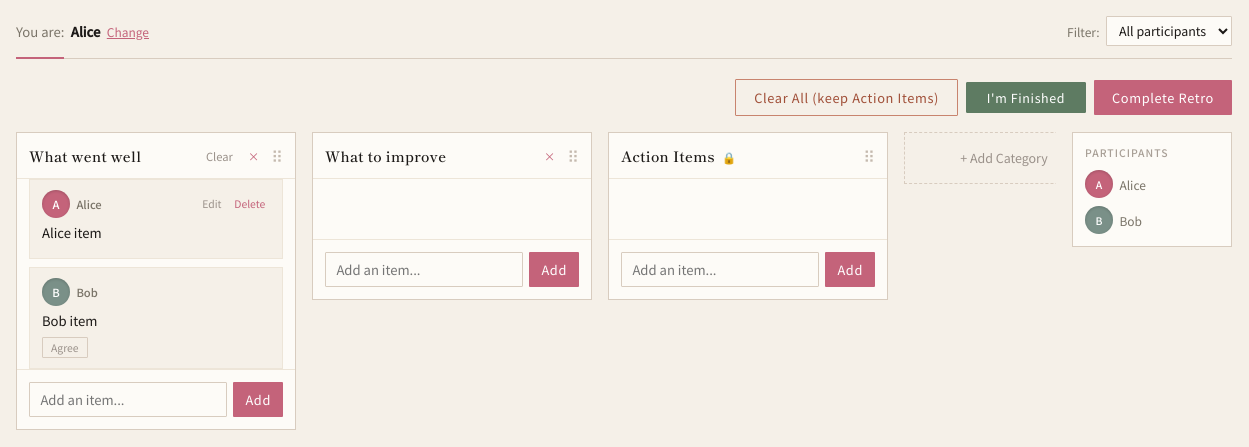
RetroBoard — participant filter › restores all items when "All participants" is selected
Select "Bob" in the dropdown labelled "Filter:": coordinates (1169, 31) [1106,16,1232,46]
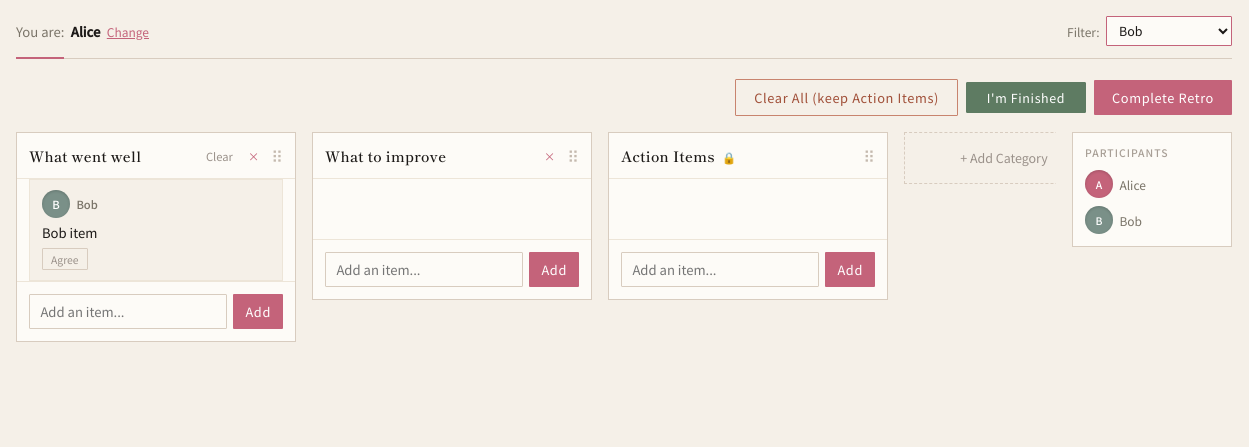
Select "All participants" in the dropdown labelled "Filter:": coordinates (1169, 31) [1106,16,1232,46]
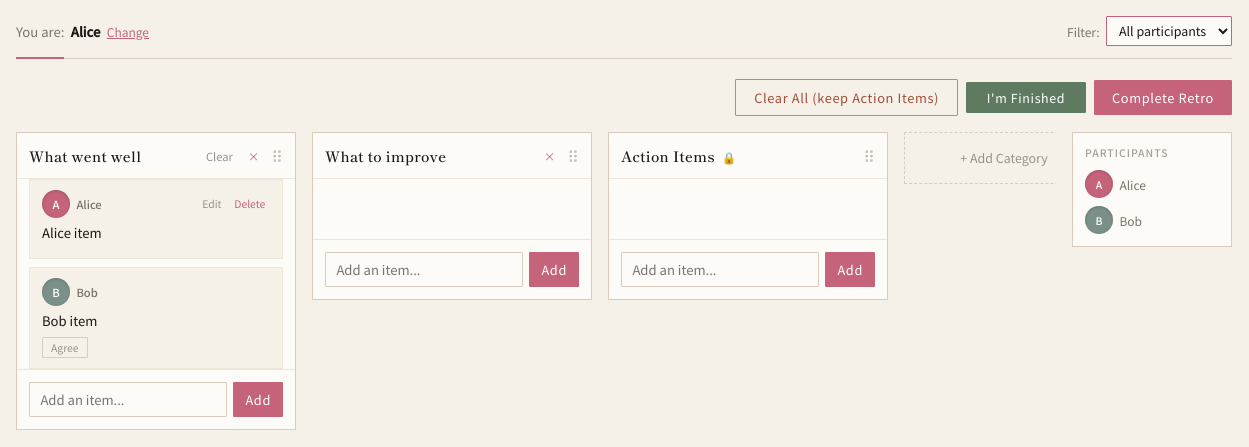
Expected: the text "Bob item" is shown, [42,311,97,330]
Expected: the text "Alice item" is shown, [42,223,102,242]
